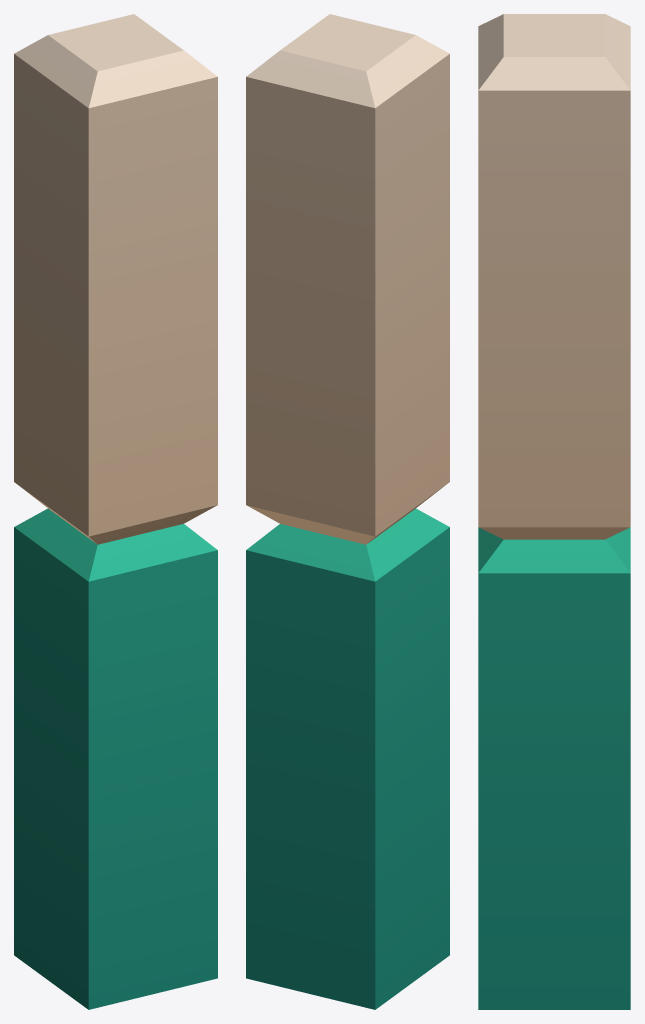
Rendered from pillar_A.obj.
3 renders of one model, left to right at view 1: azimuth 30°, elevation 25°; view 2: azimuth 150°, elevation 25°; view 3: azimuth 270°, elevation 25°, orthographic.
Visible parts, largest first — view 1: pillar_A_Cube.149; view 2: pillar_A_Cube.149; view 3: pillar_A_Cube.149.
Boxes of the visible parts, left/top/right/bottom form: pillar_A_Cube.149: left=14, top=14, right=217, bottom=1009; pillar_A_Cube.149: left=246, top=14, right=449, bottom=1009; pillar_A_Cube.149: left=478, top=14, right=630, bottom=1009.
Size of the model in its own units: 0.6 by 4.1 by 0.6.
Materials: 1 (1 with a texture image).
